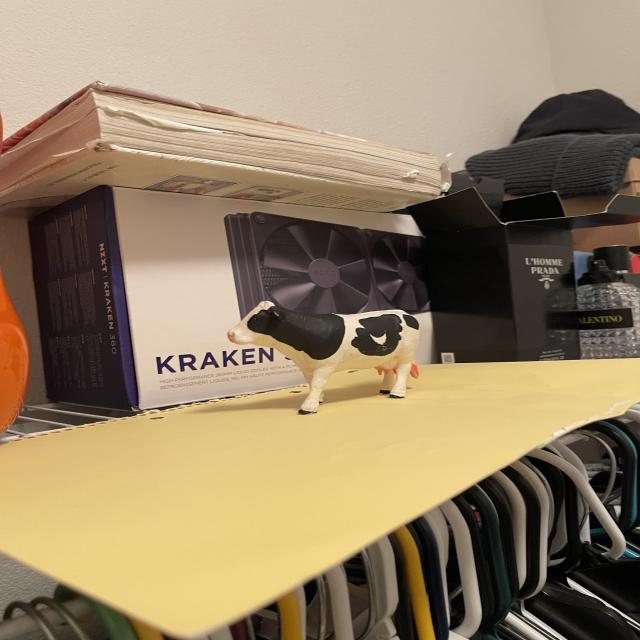cow: (224, 300, 421, 421)
